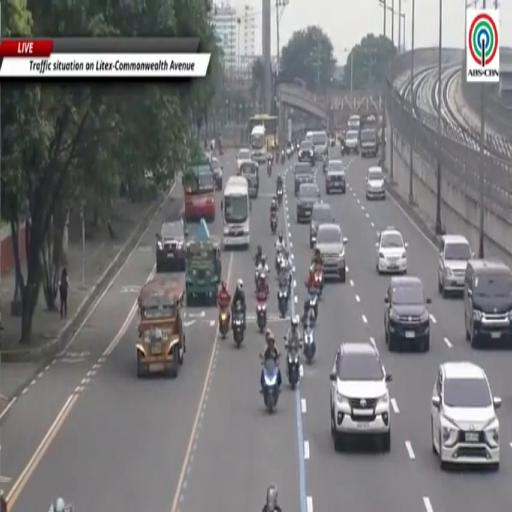bus: (222, 176, 250, 248), (249, 115, 278, 151), (250, 125, 266, 164)
car: (431, 362, 501, 470), (330, 343, 391, 452), (464, 260, 511, 347), (384, 277, 431, 351), (438, 235, 473, 296), (316, 222, 347, 282), (156, 220, 186, 273), (376, 227, 408, 274), (310, 202, 333, 248), (297, 184, 320, 222), (294, 162, 315, 196), (325, 160, 345, 194), (366, 167, 386, 200), (360, 127, 378, 157), (298, 140, 315, 166), (313, 132, 328, 159), (212, 157, 223, 189), (344, 131, 359, 154), (237, 149, 251, 171), (330, 136, 336, 147)
jeepney: (136, 278, 185, 377), (186, 237, 221, 306), (240, 162, 259, 198)
motorcycle: (262, 359, 280, 413), (285, 336, 300, 389), (303, 294, 318, 327), (303, 323, 315, 363), (232, 311, 245, 347), (278, 280, 289, 317), (256, 300, 267, 333), (219, 310, 229, 339), (301, 310, 316, 329), (308, 291, 318, 319), (314, 267, 323, 297), (255, 265, 269, 284), (276, 248, 285, 275), (276, 253, 285, 275), (270, 214, 277, 234), (254, 253, 262, 267), (277, 187, 283, 205), (340, 140, 346, 155), (267, 160, 272, 177), (322, 159, 327, 173), (281, 151, 285, 165), (286, 148, 291, 158), (297, 143, 299, 152)
truck: (183, 155, 215, 221), (360, 115, 378, 156)
